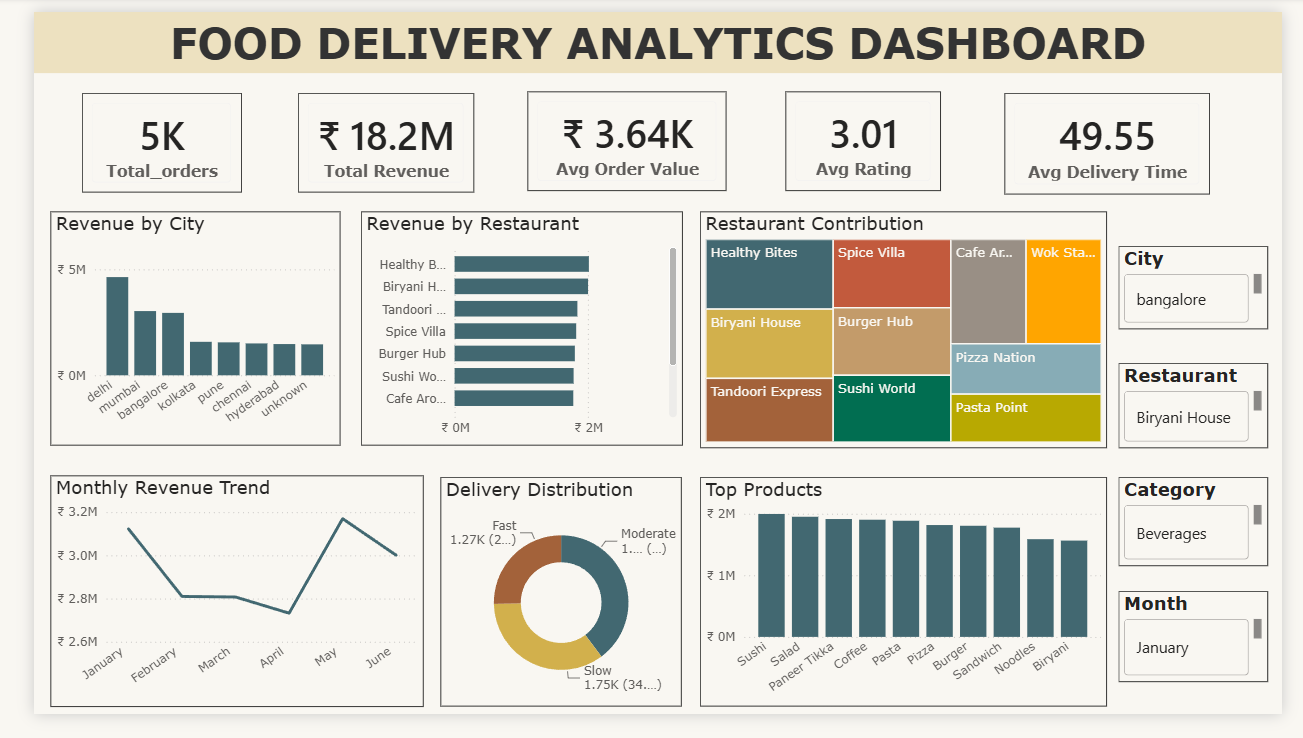

Layout of this report page (visuals, bound fields, positions):
{"tool":"powerbi","page":{"name":"Page 1","canvas":[1280,720],"ordinal":0},"visuals":[{"type":"textbox","box":[0,0,1280,62.5],"z":0},{"type":"cardVisual","fields":{"Data":["clean_orders.Total_orders"]},"box":[48.9,83,163.8,102.1],"z":1000},{"type":"cardVisual","fields":{"Data":["clean_orders.Revenue"]},"box":[270.2,83,180.9,102.1],"z":2000},{"type":"cardVisual","fields":{"Data":["clean_orders.Avg_Order_Value"]},"box":[506.4,80.9,204.3,102.1],"z":3000},{"type":"cardVisual","fields":{"Data":["clean_orders.Avg_Rating"]},"box":[770.2,80.9,159.6,102.1],"z":4000},{"type":"cardVisual","fields":{"Data":["clean_orders.Avg_Delivery_Time"]},"box":[995.7,83,210.6,104.3],"z":5000},{"type":"clusteredColumnChart","fields":{"Category":["clean_orders.City"],"Y":["clean_orders.Total_Revenue"]},"box":[17.5,205,297.5,240],"z":6000},{"type":"clusteredBarChart","fields":{"Category":["clean_orders.Restaurant"],"Y":["clean_orders.Total_Revenue"]},"box":[335,205,330,240],"z":7000},{"type":"donutChart","title":"Delivery Distribution","fields":{"Category":["clean_orders.Delivery Category"],"Y":["CountNonNull(clean_orders.Order_ID)"]},"box":[417.5,477.5,247.5,235],"z":8000},{"type":"treemap","title":"Restaurant Contribution","fields":{"Group":["clean_orders.Restaurant"],"Values":["clean_orders.Revenue Contribution %"]},"box":[682.5,205,417.5,242.5],"z":9000},{"type":"clusteredColumnChart","title":"Top Products","fields":{"Category":["clean_orders.Food_Item"],"Y":["clean_orders.Revenue"]},"box":[682.5,477.5,417.5,235],"z":10000},{"type":"lineChart","title":"Monthly Revenue Trend","fields":{"Category":["clean_orders.Date.Variation.Date Hierarchy.Month"],"Y":["clean_orders.Revenue"]},"box":[17.5,475,382.5,237.5],"z":11000},{"type":"advancedSlicerVisual","fields":{"Values":["clean_orders.City"]},"box":[1112.8,240.4,153.2,85.1],"z":12000},{"type":"advancedSlicerVisual","fields":{"Values":["clean_orders.Restaurant"]},"box":[1112.8,359.6,153.2,87.2],"z":13000},{"type":"advancedSlicerVisual","fields":{"Values":["clean_orders.Category"]},"box":[1112.8,476.6,153.2,91.5],"z":14000},{"type":"advancedSlicerVisual","fields":{"Values":["clean_orders.Date.Variation.Date Hierarchy.Month"]},"box":[1112.8,593.6,153.2,93.6],"z":15000}]}

Visuals, with their boxes in screenshot pixels (x1, y1, x2, y2), scaled from the page's 1280x720 canvas onto the 1303x738 screenshot:
textbox: [x1=0, y1=0, x2=1302, y2=64]
cardVisual - clean_orders.Total_orders: [x1=50, y1=85, x2=217, y2=190]
cardVisual - clean_orders.Revenue: [x1=275, y1=85, x2=459, y2=190]
cardVisual - clean_orders.Avg_Order_Value: [x1=515, y1=83, x2=723, y2=188]
cardVisual - clean_orders.Avg_Rating: [x1=784, y1=83, x2=947, y2=188]
cardVisual - clean_orders.Avg_Delivery_Time: [x1=1014, y1=85, x2=1228, y2=192]
clusteredColumnChart - clean_orders.City x clean_orders.Total_Revenue: [x1=18, y1=210, x2=321, y2=456]
clusteredBarChart - clean_orders.Restaurant x clean_orders.Total_Revenue: [x1=341, y1=210, x2=677, y2=456]
"Delivery Distribution" donutChart: [x1=425, y1=489, x2=677, y2=730]
"Restaurant Contribution" treemap: [x1=695, y1=210, x2=1120, y2=459]
"Top Products" clusteredColumnChart: [x1=695, y1=489, x2=1120, y2=730]
"Monthly Revenue Trend" lineChart: [x1=18, y1=487, x2=407, y2=730]
advancedSlicerVisual - clean_orders.City: [x1=1133, y1=246, x2=1289, y2=334]
advancedSlicerVisual - clean_orders.Restaurant: [x1=1133, y1=369, x2=1289, y2=458]
advancedSlicerVisual - clean_orders.Category: [x1=1133, y1=489, x2=1289, y2=582]
advancedSlicerVisual - clean_orders.Date.Variation.Date Hierarchy.Month: [x1=1133, y1=608, x2=1289, y2=704]
